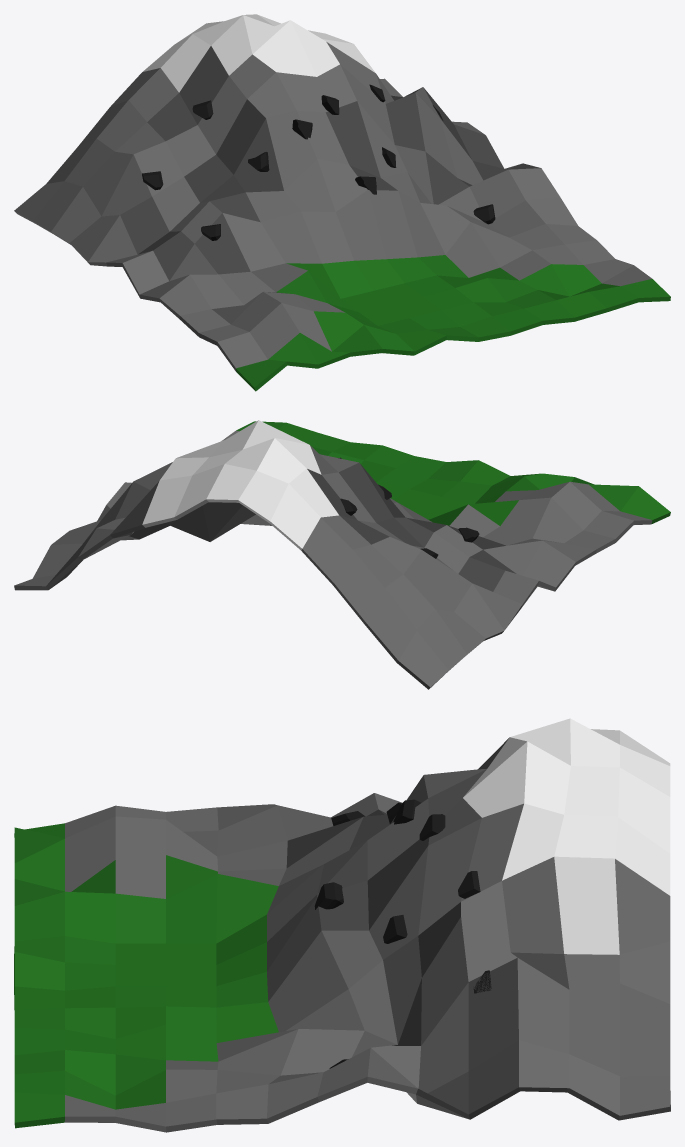
Rendered from mountain.fbx.
3 views of the same model, one above another, from view 1: azimuth 30°, elevation 25°; view 2: azimuth 150°, elevation 25°; view 3: azimuth 270°, elevation 25° (orthographic). The views are drawn at different scales.
Visible parts, largest first — view 1: Plane; view 2: Plane; view 3: Plane, Cube.027.
Boxes of the visible parts, x1,y1,x2,y2 form: Plane: (14,14,670,391); Plane: (14,420,670,689); Plane: (14,718,670,1132); Cube.027: (314,882,343,909).
Bounding box in the file's own units: 13853 × 6440 × 13860.
